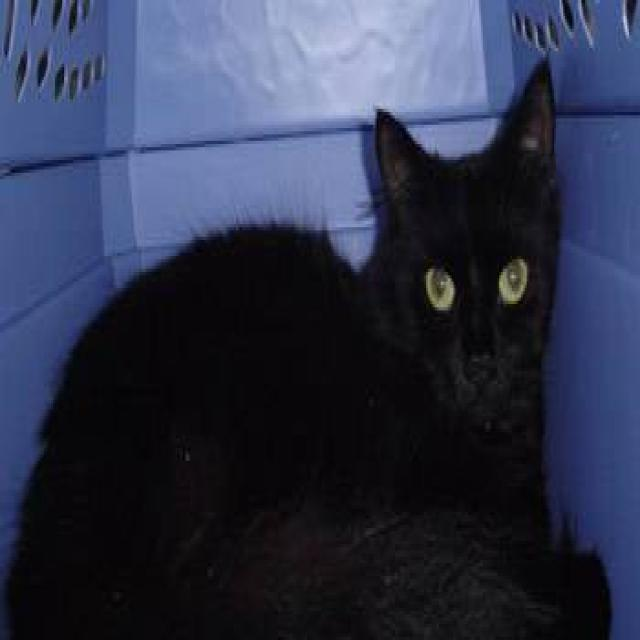cat: (2, 54, 611, 637)
